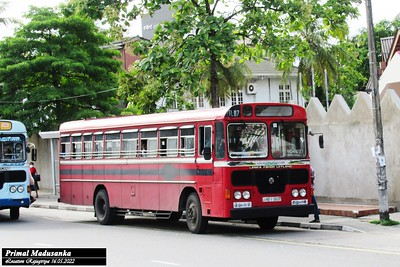bus: (57, 103, 314, 234), (1, 119, 30, 220)
